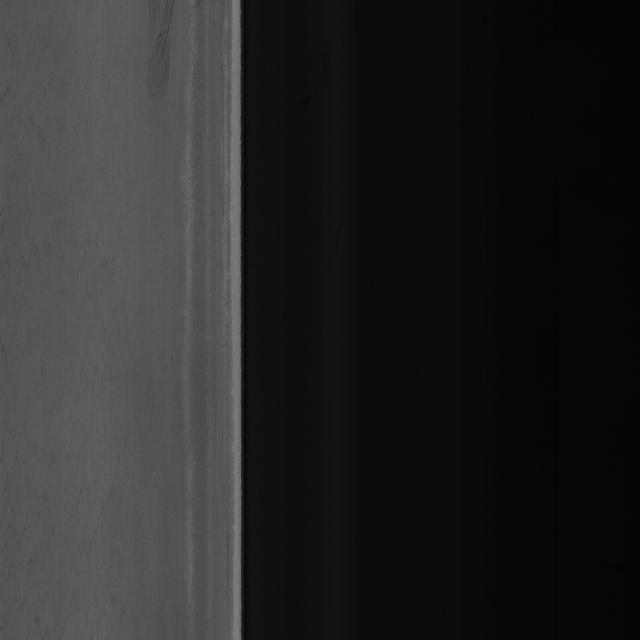water_spot: (144, 5, 191, 135)
